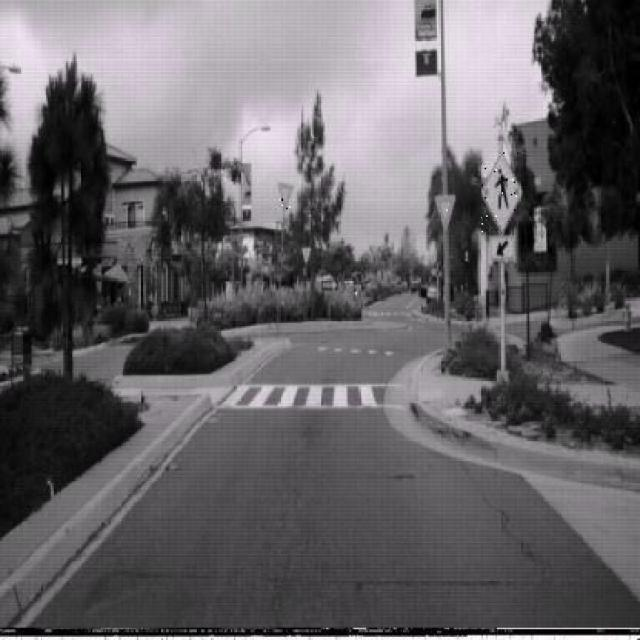pedestrianCrossing: (480, 150, 523, 236)
yield: (434, 192, 456, 234), (277, 180, 294, 212)
